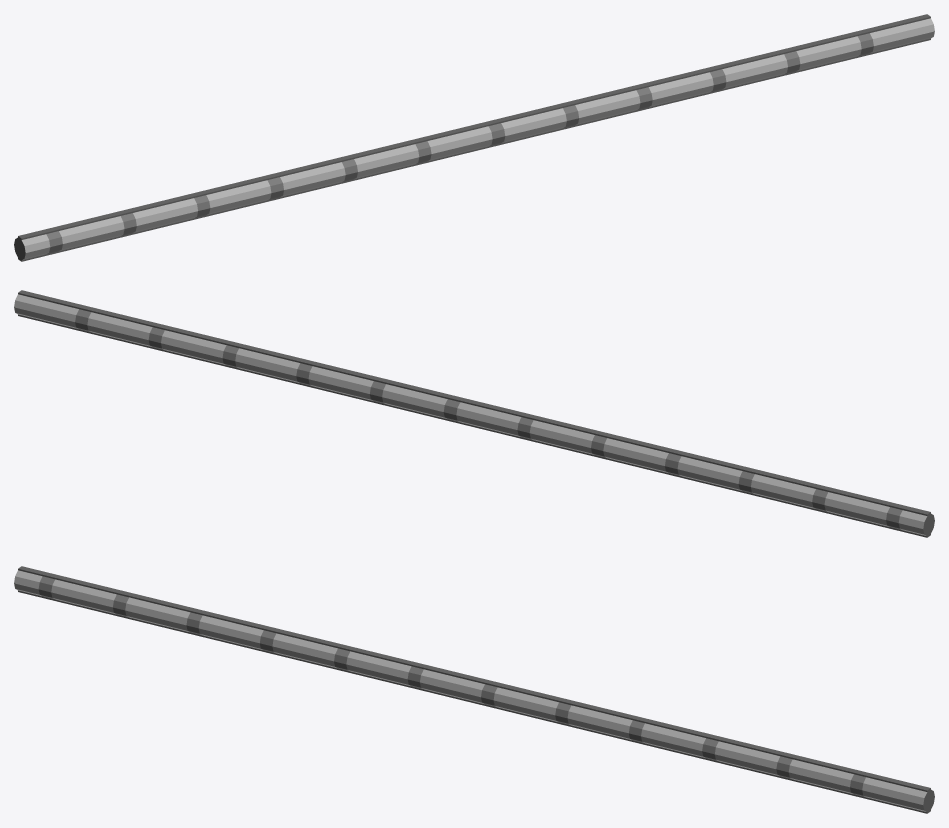
File: Rebar.fbx
3 renders of one model, top to bottom at view 1: azimuth 30°, elevation 25°; view 2: azimuth 150°, elevation 25°; view 3: azimuth 330°, elevation 25°, orthographic.
Visible parts, largest first — view 1: ZomboidRebar; view 2: ZomboidRebar; view 3: ZomboidRebar.
Boxes of the visible parts, x1=… form: ZomboidRebar: x1=14, y1=14, x2=934, y2=261; ZomboidRebar: x1=14, y1=290, x2=934, y2=537; ZomboidRebar: x1=14, y1=566, x2=934, y2=813.
Bounding box in the file's own units: 0.7008 × 0.0171 × 0.0156.
